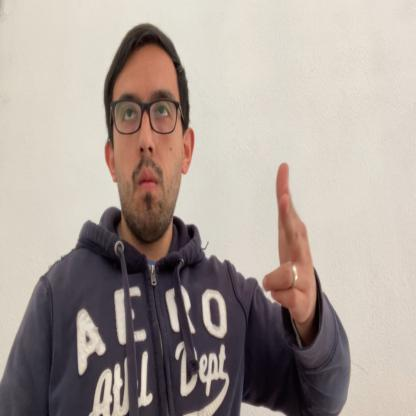H: (260, 157, 322, 320)
